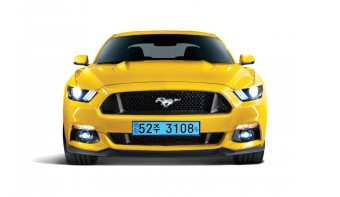car: (131, 119, 201, 137)
